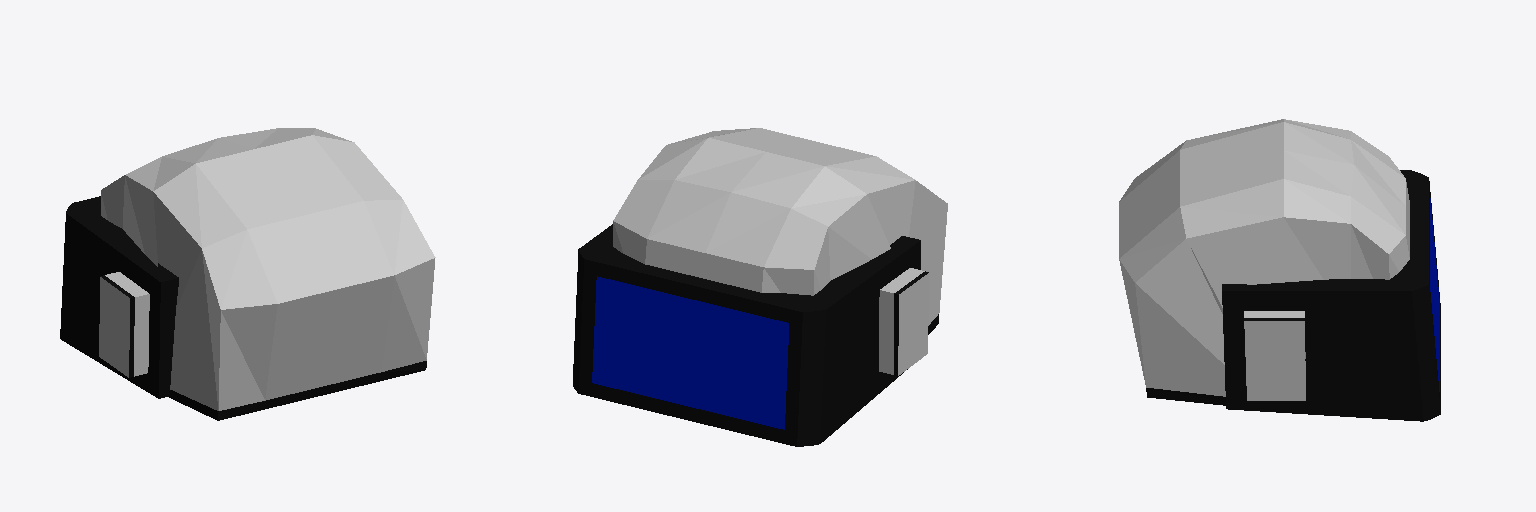
The model's file is heavy_helm.obj.
The picture shows the model from 3 angles: view 1: azimuth 30°, elevation 25°; view 2: azimuth 150°, elevation 25°; view 3: azimuth 270°, elevation 25°; orthographic projection.
Visible parts, largest first — view 1: Cube_Cube.001; view 2: Cube_Cube.001; view 3: Cube_Cube.001.
Part boxes in pixels (x1,y1,x2,y2): Cube_Cube.001: (60, 128, 435, 420); Cube_Cube.001: (573, 128, 947, 446); Cube_Cube.001: (1119, 119, 1440, 421).
Size of the model in its own units: 0.6401 by 0.4495 by 0.6218.